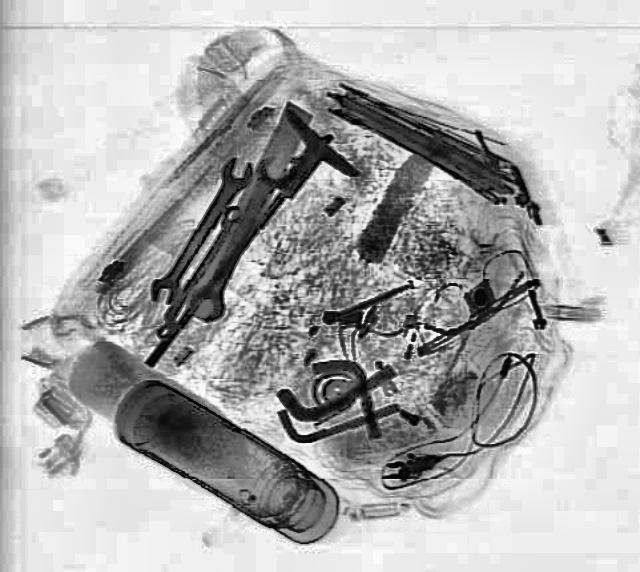Wrench: (178, 150, 296, 326), (140, 152, 262, 306)
